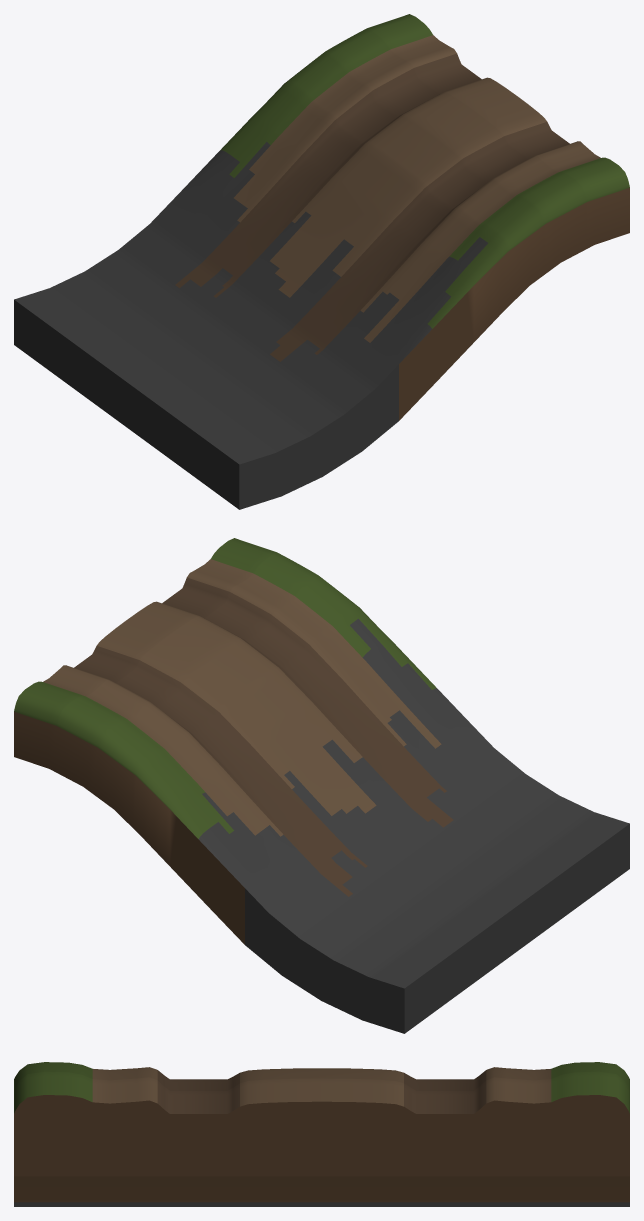
3 views of the same model, one above another, from view 1: azimuth 30°, elevation 25°; view 2: azimuth 150°, elevation 25°; view 3: azimuth 270°, elevation 25° (orthographic). The views are drawn at different scales.
Visible parts, largest first — view 1: c2u; view 2: c2u; view 3: c2u.
Part boxes in pixels (x1,y1,x2,y2): c2u: (14,14,629,509); c2u: (14,538,629,1033); c2u: (14,1062,629,1206).
Size of the model in its own units: 9 by 5.31 by 9.
